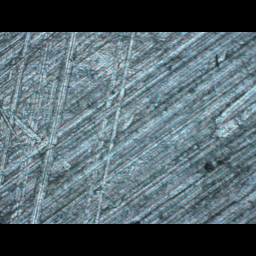d: (0, 33, 141, 224)
